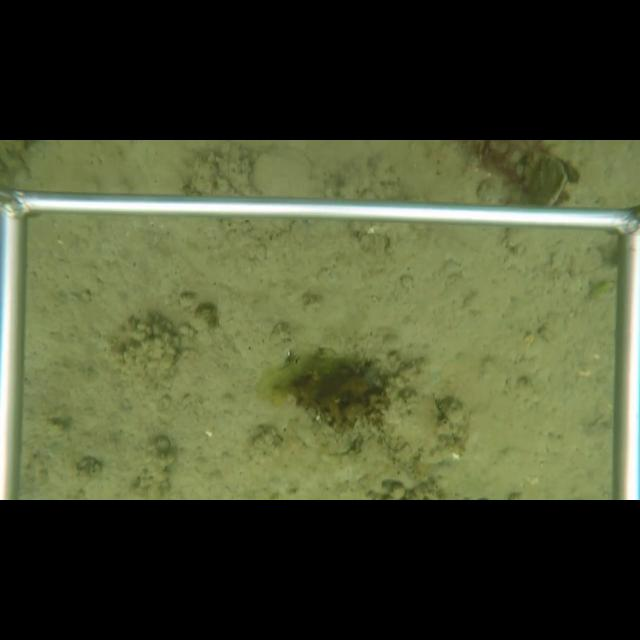Oyster-Closed: (248, 151, 328, 197), (125, 331, 183, 380), (524, 154, 570, 207)
